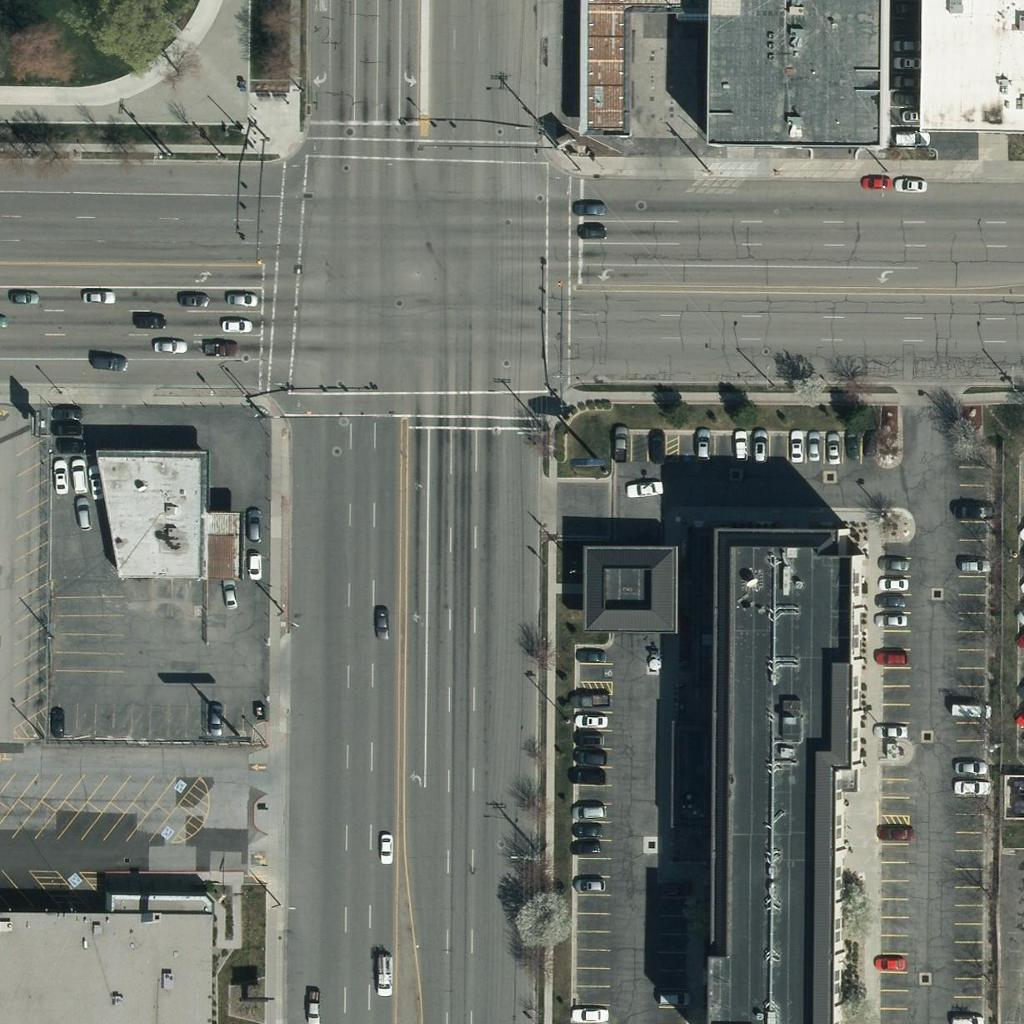car: (890, 27, 924, 61), (890, 45, 924, 79), (889, 65, 923, 99), (889, 81, 923, 115), (895, 99, 929, 133), (858, 163, 892, 197), (893, 167, 927, 201), (573, 190, 607, 224), (573, 212, 607, 246), (78, 278, 112, 312), (3, 279, 37, 313), (220, 281, 254, 315), (174, 283, 208, 317), (131, 304, 165, 338), (215, 307, 249, 341), (150, 329, 184, 363), (206, 330, 240, 364), (90, 345, 124, 379), (50, 395, 84, 429), (49, 409, 83, 443), (853, 420, 887, 454), (603, 425, 637, 459), (639, 426, 673, 460), (834, 426, 868, 460), (54, 427, 88, 461), (685, 427, 719, 461), (723, 427, 757, 461), (742, 428, 776, 462), (778, 429, 812, 463), (796, 429, 830, 463), (778, 430, 812, 464), (815, 431, 849, 465), (41, 458, 75, 492), (62, 458, 96, 492), (78, 466, 112, 500), (625, 470, 659, 504), (955, 496, 989, 530), (64, 497, 98, 531), (236, 509, 270, 543), (875, 545, 909, 579), (236, 548, 270, 582), (957, 549, 991, 583), (875, 565, 909, 599), (211, 575, 245, 609), (872, 582, 906, 616), (874, 603, 908, 637), (875, 603, 909, 637), (364, 604, 398, 638), (571, 636, 605, 670), (874, 641, 908, 675), (568, 683, 602, 717), (957, 693, 991, 727), (198, 701, 232, 735), (574, 703, 608, 737), (39, 705, 73, 739), (872, 715, 906, 749), (572, 723, 606, 757), (570, 740, 604, 774), (952, 750, 986, 784), (567, 758, 601, 792), (952, 770, 986, 804), (572, 794, 606, 828), (570, 811, 604, 845), (878, 813, 912, 847), (565, 828, 599, 862), (367, 829, 401, 863), (574, 868, 608, 902), (871, 945, 905, 979), (367, 958, 401, 992), (654, 979, 688, 1013), (296, 991, 330, 1024), (572, 997, 606, 1024), (889, 0, 923, 22), (949, 1004, 983, 1024)
